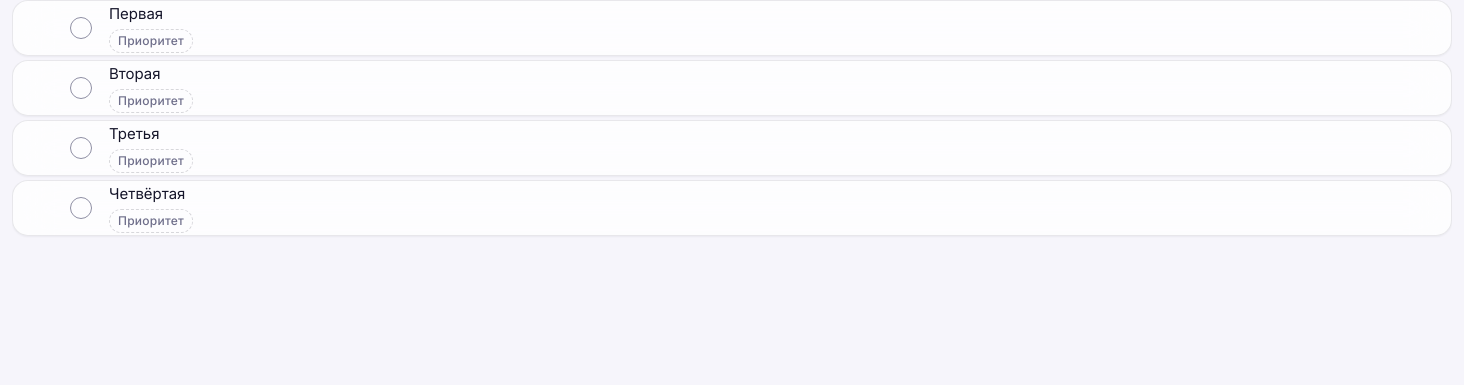
Test: TaskList › task-settle keeps the original slot (FELA-126 audit) › checking the first of four active tasks keeps it at index 0 until settle, then moves it to Completed
Click the checkbox labelled "Первая".
click(81, 28)  # box [70, 17, 92, 39]
Wait 600 ms
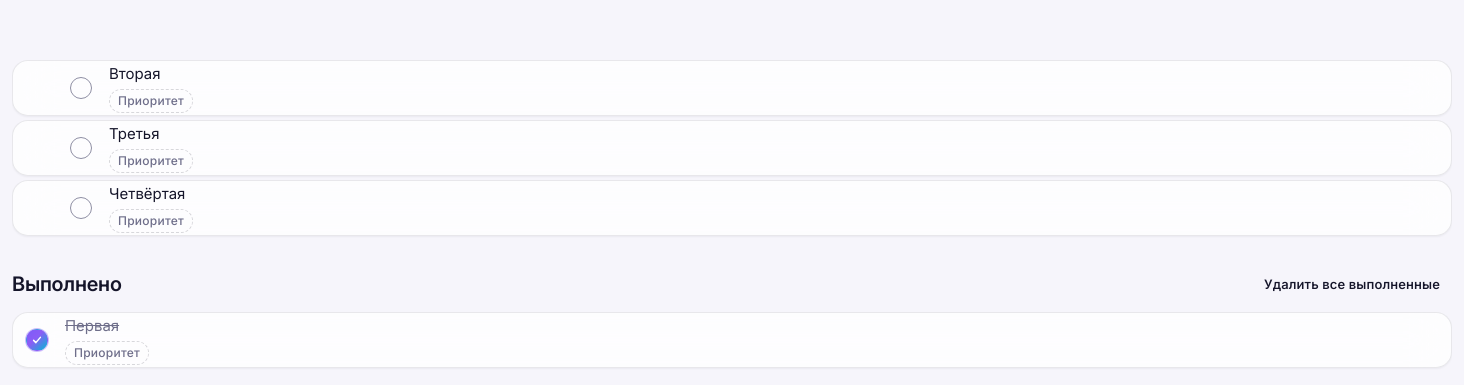
Result: the element named "Выполнено" shows "Первая" at [65, 316, 119, 335]
